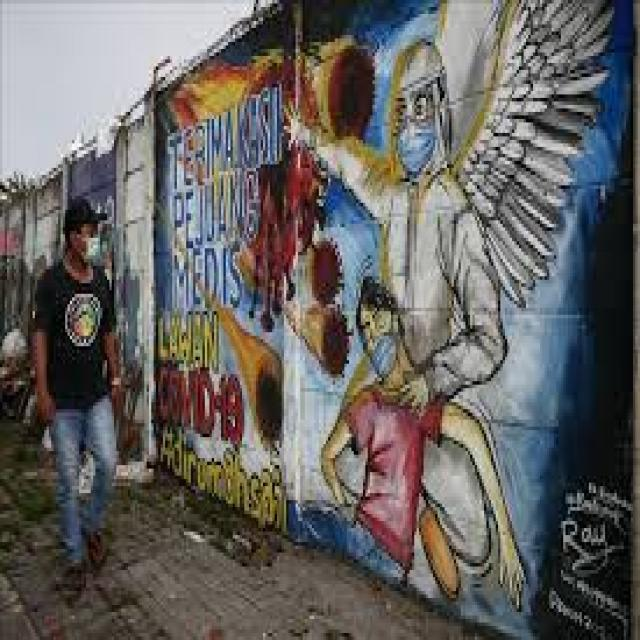-: (151, 0, 638, 640)
